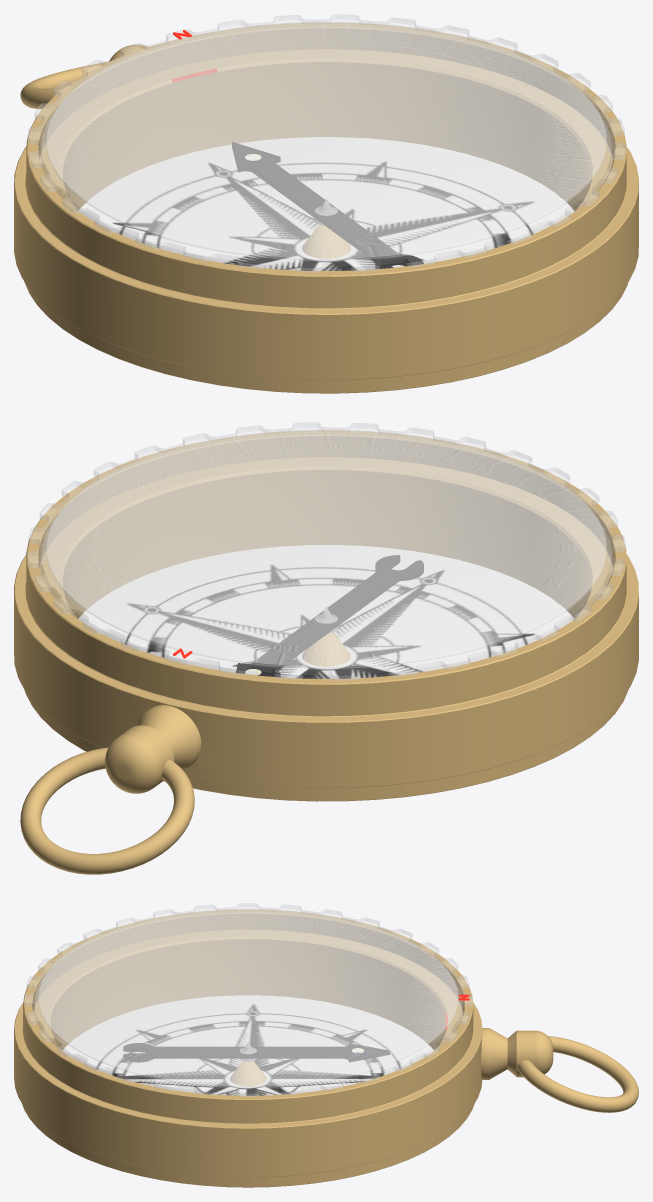
File: Compass-transformed.glb
The picture shows the model from 3 angles, top to bottom: view 1: azimuth 30°, elevation 25°; view 2: azimuth 150°, elevation 25°; view 3: azimuth 270°, elevation 25°; orthographic projection. The views are drawn at different scales.
Visible parts, largest first — view 1: Object_4, rotating cylinder_3, Object_6, needle_4; view 2: Object_4, rotating cylinder_3, Object_6, needle_4; view 3: Object_4, rotating cylinder_3, Object_6, needle_4.
Part boxes in pixels (x1,y1,x2,y2): Object_4: (14, 22, 638, 393); rotating cylinder_3: (27, 14, 625, 272); Object_6: (79, 137, 574, 270); needle_4: (232, 142, 423, 268); Object_4: (14, 430, 638, 874); rotating cylinder_3: (27, 422, 625, 680); Object_6: (78, 545, 574, 678); needle_4: (236, 555, 423, 676); Object_4: (14, 909, 638, 1187); rotating cylinder_3: (24, 903, 472, 1096); Object_6: (63, 995, 433, 1095); needle_4: (123, 1042, 389, 1062).
Size of the model in its own units: 51.25 by 12.39 by 68.35.
Materials: 6 (5 with a texture image).
